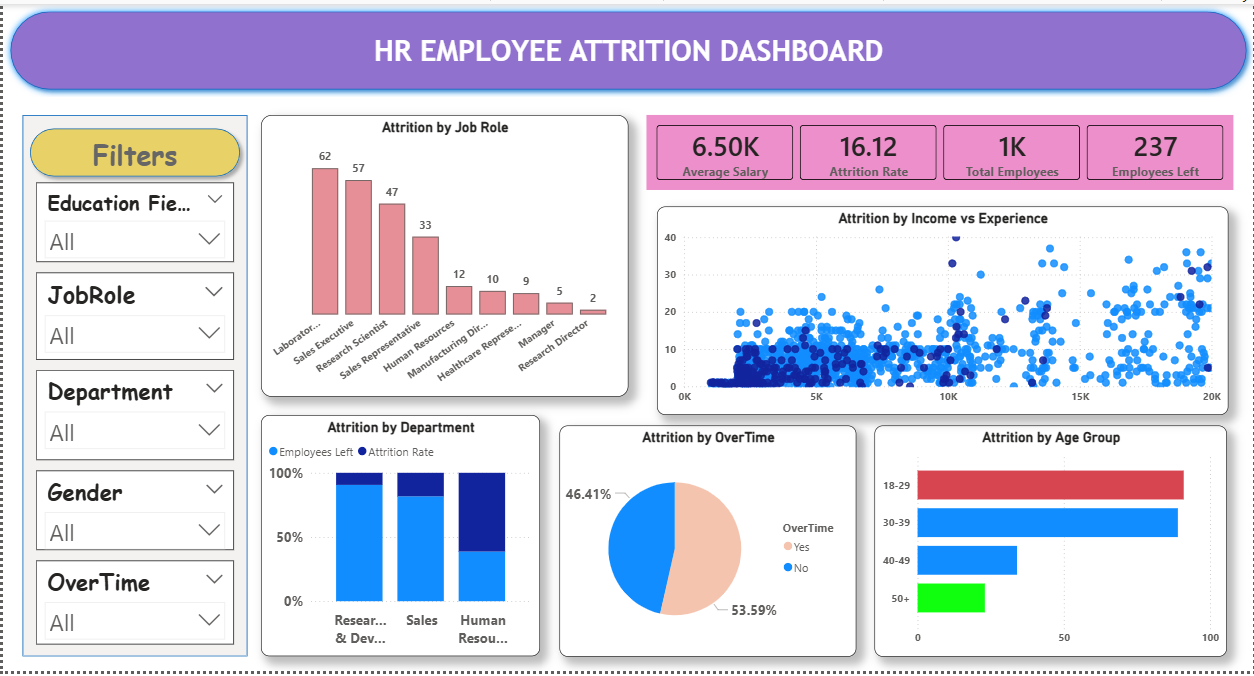

What the dashboard file says about the page in this screenshot:
{"tool":"powerbi","page":{"name":"Page 1","canvas":[1500,800],"ordinal":0},"visuals":[{"type":"shape","box":[23.4,133.1,269.9,649.5],"z":0},{"type":"hundredPercentStackedColumnChart","title":"Attrition by Department","fields":{"Category":["HR-Employee-Attrition.Department"],"Y":["HR-Employee-Attrition.Employees Left","HR-Employee-Attrition.Attrition Rate"]},"box":[309.5,493,334.6,289.7],"z":2000},{"type":"barChart","title":"Attrition by Age Group","fields":{"Category":["HR-Employee-Attrition.Age Group"],"Y":["HR-Employee-Attrition.Employees Left"]},"box":[1045.3,505.6,422.8,277.1],"z":4000},{"type":"columnChart","title":"Attrition by Job Role","fields":{"Category":["HR-Employee-Attrition.JobRole"],"Y":["HR-Employee-Attrition.Employees Left"]},"box":[309.5,133.1,440.8,338.2],"z":5000},{"type":"pieChart","title":"Attrition by OverTime","fields":{"Category":["HR-Employee-Attrition.OverTime"],"Y":["HR-Employee-Attrition.Employees Left"]},"box":[667.5,505.6,356.2,277.1],"z":6000},{"type":"scatterChart","title":"Attrition by Income vs Experience","fields":{"Y":["Sum(HR-Employee-Attrition.YearsAtCompany)"],"Series":["HR-Employee-Attrition.Attrition"],"Category":["HR-Employee-Attrition.EmployeeNumber"],"X":["HR-Employee-Attrition.Average Salary"]},"box":[784.4,242.9,685.5,250.1],"z":7000},{"type":"slicer","fields":{"Values":["HR-Employee-Attrition.Department"]},"box":[39.6,439,237.5,107.9],"z":8000},{"type":"slicer","fields":{"Values":["HR-Employee-Attrition.Gender"]},"box":[39.6,559.5,237.5,95.4],"z":9000},{"type":"slicer","fields":{"Values":["HR-Employee-Attrition.EducationField"]},"box":[39.6,214.1,237.5,95.4],"z":11000},{"type":"slicer","fields":{"Values":["HR-Employee-Attrition.JobRole"]},"box":[39.6,322,237.5,104.4],"z":12000},{"type":"slicer","fields":{"Values":["HR-Employee-Attrition.OverTime"]},"box":[39.6,667.5,237.5,100.8],"z":13000},{"type":"shape","box":[0,0,1500.5,111.5],"z":14000},{"type":"shape","box":[23.4,140.3,269.9,75.6],"z":15000},{"type":"cardVisual","fields":{"Data":["HR-Employee-Attrition.Average Salary","HR-Employee-Attrition.Attrition Rate","HR-Employee-Attrition.Total Employees","HR-Employee-Attrition.Employees Left"]},"box":[766.4,127.7,716.1,100.8],"z":16000}]}

Visuals, with their boxes in screenshot pixels (x1, y1, x2, y2), scaled from the page's 1500x800 canvas onto the 1254x676 screenshot:
shape: [left=20, top=112, right=245, bottom=661]
"Attrition by Department" hundredPercentStackedColumnChart: [left=259, top=417, right=538, bottom=661]
"Attrition by Age Group" barChart: [left=874, top=427, right=1227, bottom=661]
"Attrition by Job Role" columnChart: [left=259, top=112, right=627, bottom=398]
"Attrition by OverTime" pieChart: [left=558, top=427, right=856, bottom=661]
"Attrition by Income vs Experience" scatterChart: [left=656, top=205, right=1229, bottom=417]
slicer - HR-Employee-Attrition.Department: [left=33, top=371, right=232, bottom=462]
slicer - HR-Employee-Attrition.Gender: [left=33, top=473, right=232, bottom=553]
slicer - HR-Employee-Attrition.EducationField: [left=33, top=181, right=232, bottom=262]
slicer - HR-Employee-Attrition.JobRole: [left=33, top=272, right=232, bottom=360]
slicer - HR-Employee-Attrition.OverTime: [left=33, top=564, right=232, bottom=649]
shape: [left=0, top=0, right=1253, bottom=94]
shape: [left=20, top=119, right=245, bottom=182]
cardVisual - HR-Employee-Attrition.Average Salary x HR-Employee-Attrition.Attrition Rate: [left=641, top=108, right=1239, bottom=193]
